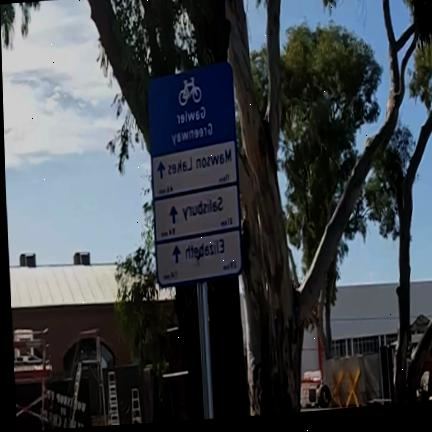Bike_Sign: (148, 63, 243, 286)
